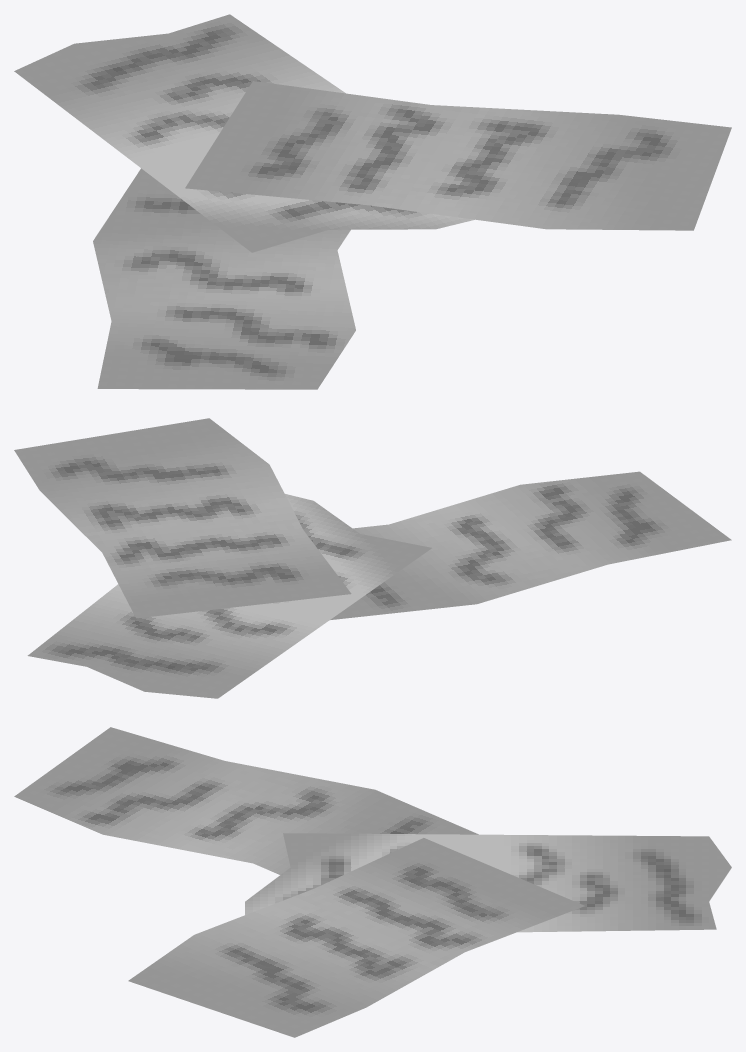
Rendered from scatteredPaper.gltf.
The picture shows the model from 3 angles, top to bottom: view 1: azimuth 30°, elevation 25°; view 2: azimuth 150°, elevation 25°; view 3: azimuth 270°, elevation 25°; orthographic projection. The views are drawn at different scales.
Visible parts, largest first — view 1: plane (×3); view 2: plane (×3); view 3: plane (×3).
Part boxes in pixels (<box>): plane (×3): <box>14,14,731,389</box>; plane (×3): <box>14,418,731,698</box>; plane (×3): <box>14,727,731,1037</box>.
Size of the model in its own units: 1.52 by 0.00625 by 1.47.
Materials: 1 (1 with a texture image).
